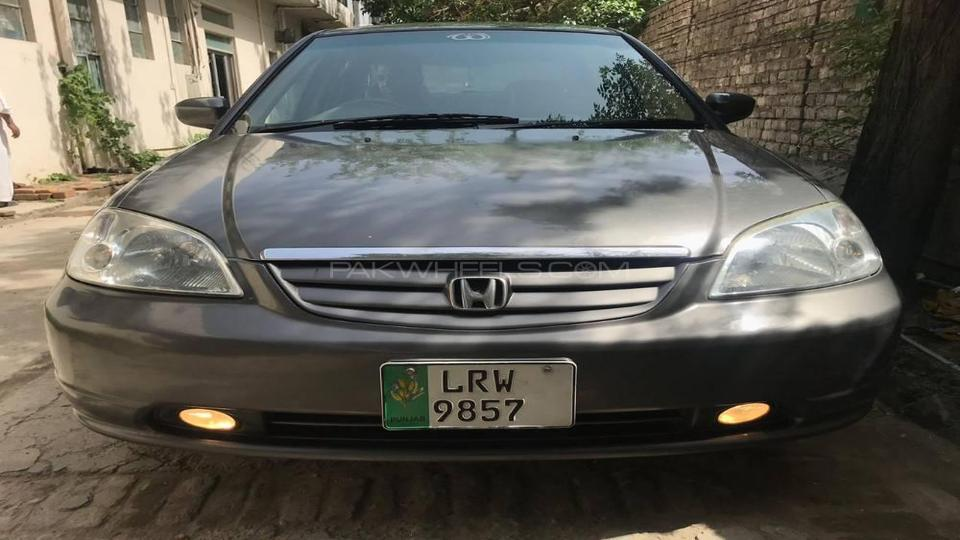NumberPlate: (374, 357, 594, 451)
